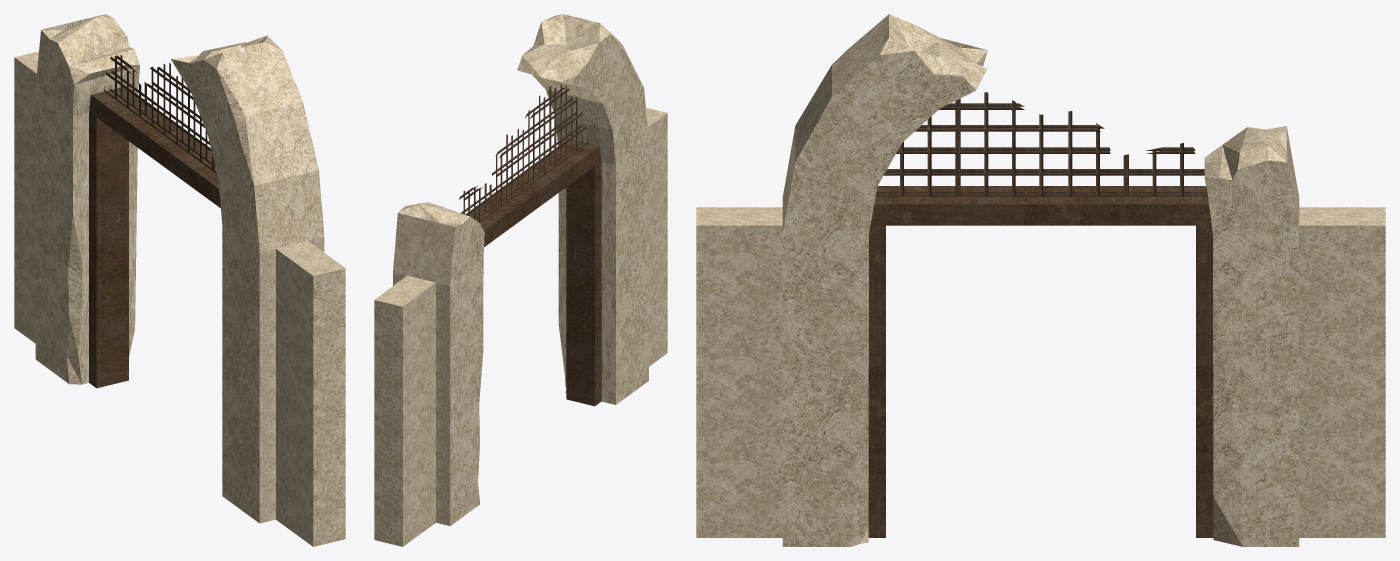
Rendered from thm_tato_imprv_wallgate_s02_l0.fbx.
3 views of the same model, side by side, from view 1: azimuth 30°, elevation 25°; view 2: azimuth 150°, elevation 25°; view 3: azimuth 270°, elevation 25° (orthographic). The views are drawn at different scales.
Visible parts, largest first — view 1: mesh_node; view 2: mesh_node; view 3: mesh_node.
Part boxes in pixels (bbox=[...]): mesh_node: bbox=[14, 14, 345, 546]; mesh_node: bbox=[374, 14, 667, 546]; mesh_node: bbox=[696, 14, 1385, 546].
Size of the model in its own units: 1 by 6.43 by 8.
